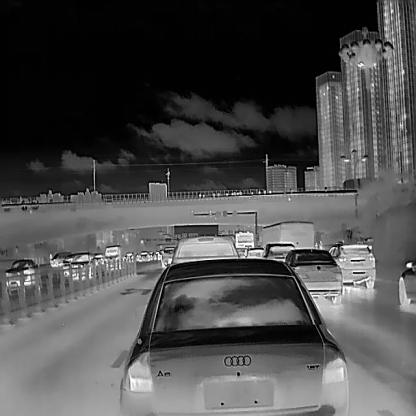bus: (260, 219, 314, 250), (233, 230, 255, 257)
car: (118, 258, 348, 415), (284, 247, 342, 302), (328, 242, 375, 288), (4, 258, 40, 288), (397, 258, 415, 313), (68, 250, 94, 278), (102, 245, 121, 270), (49, 249, 70, 266), (160, 245, 175, 268), (138, 250, 149, 261)
